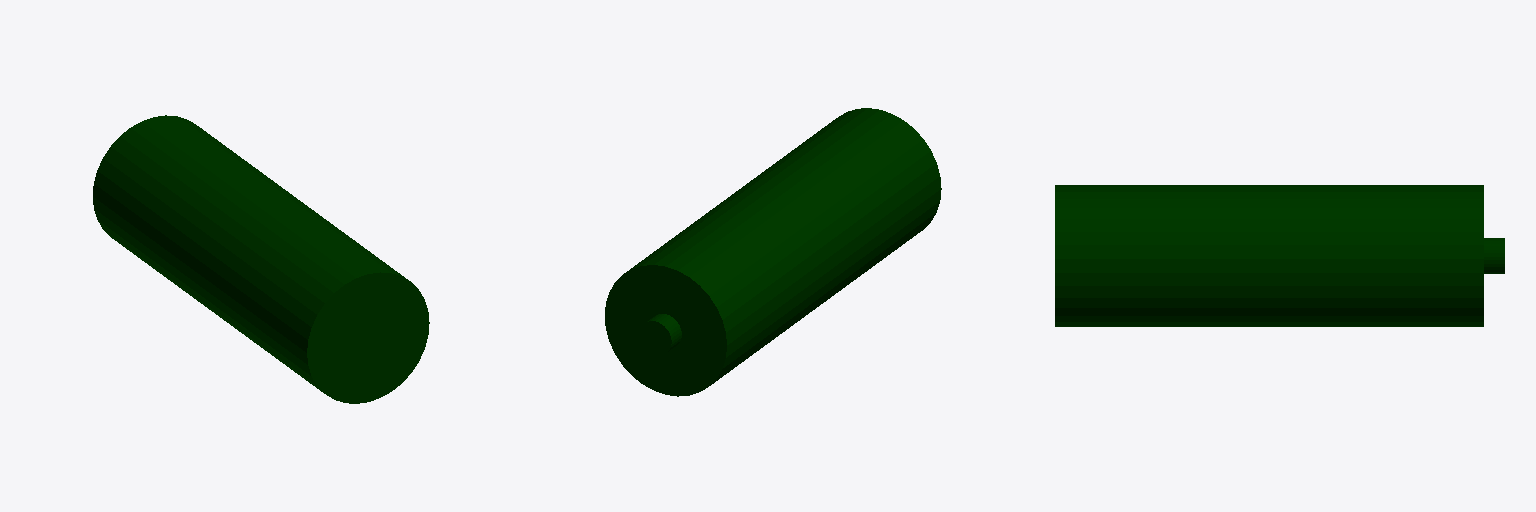
The model's file is bateria.obj.
3 views of the same model, side by side, from view 1: azimuth 30°, elevation 25°; view 2: azimuth 150°, elevation 25°; view 3: azimuth 270°, elevation 25° (orthographic).
Parts seen in each view (by area): view 1: Cylinder.004; view 2: Cylinder.004; view 3: Cylinder.004.
Boxes of the visible parts, box(x1,y1,x2,y2) form: Cylinder.004: box(93, 115, 429, 403); Cylinder.004: box(605, 108, 941, 396); Cylinder.004: box(1055, 185, 1504, 326).
Size of the model in its own units: 1.37 by 1.37 by 4.34.